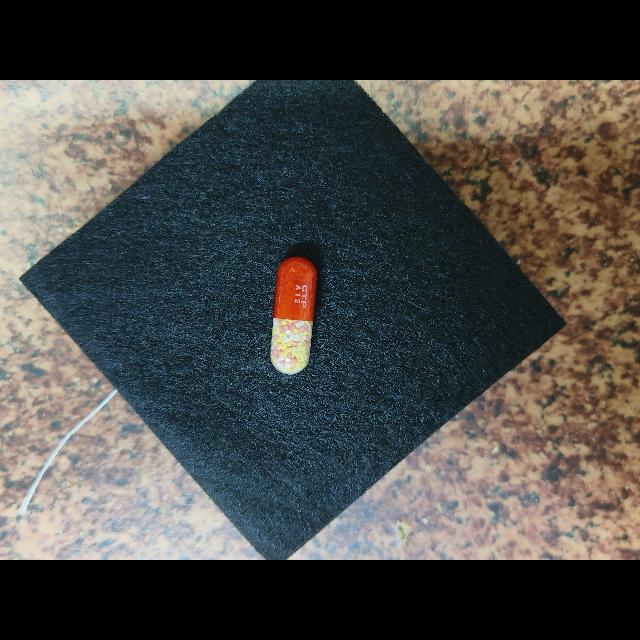Intact Capsule: (270, 257, 317, 375)
